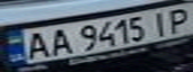1: (112, 16, 133, 44)
4: (97, 18, 118, 47)
5: (127, 12, 151, 42)
9: (75, 21, 100, 52)
A: (18, 29, 54, 61), (45, 26, 75, 57)
I: (145, 9, 175, 37)
P: (163, 6, 193, 34)
